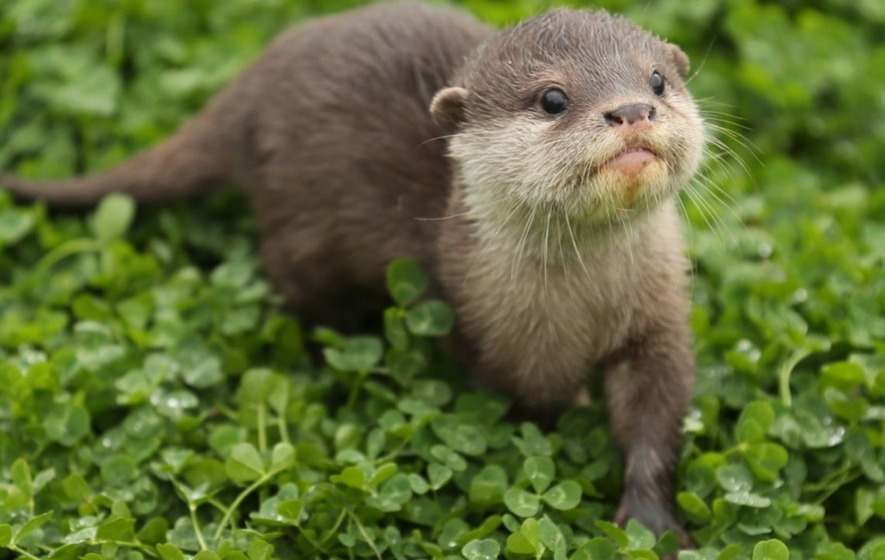otter: (68, 1, 811, 560)
